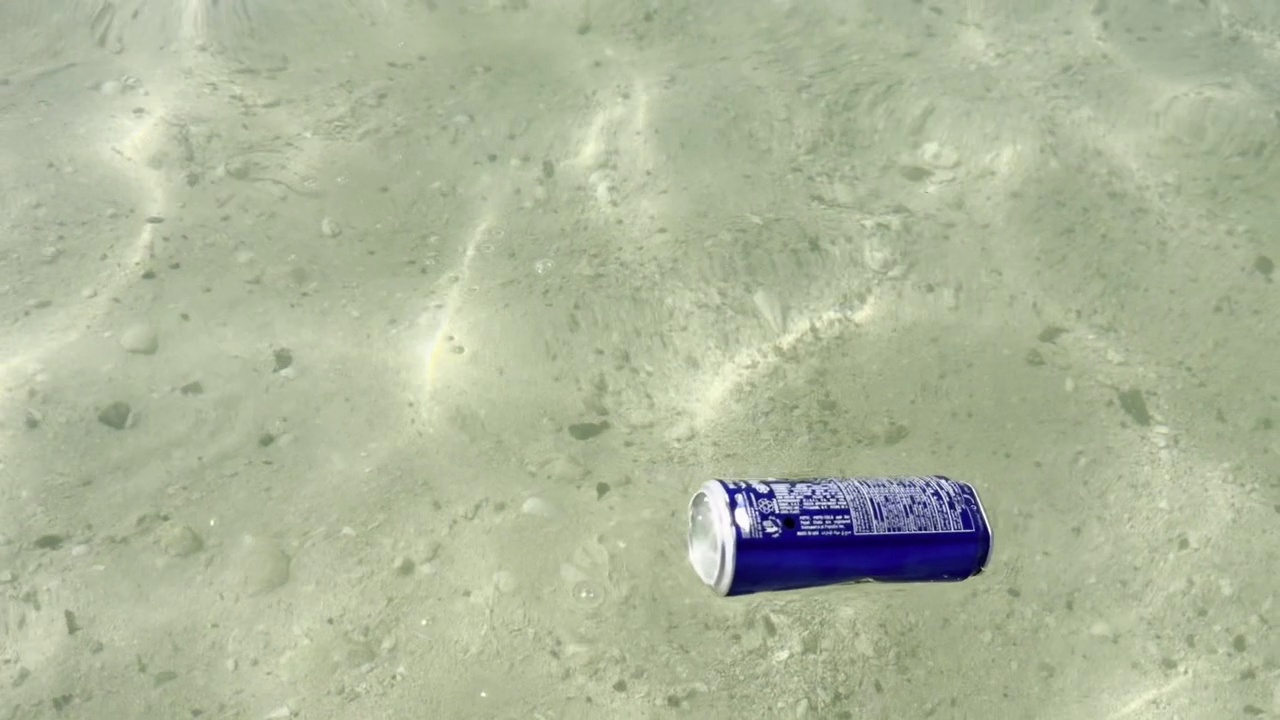debris: (669, 464, 1016, 600)
